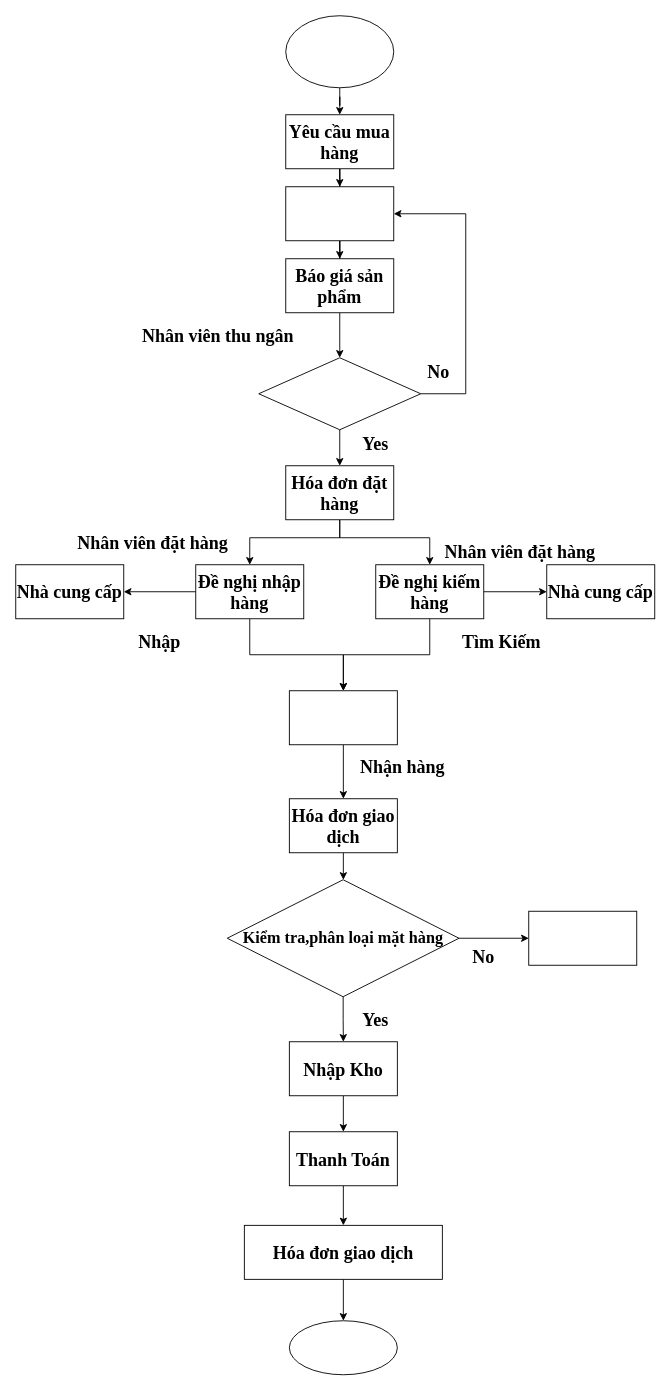
The diagram is 671 pixels wide and 1391 high, and some of its shapes have lost their labels. The centre of each missing label's shape, as x and y in pixels:
Bắt đầu: [339,51]
Kết thúc: [342,1347]
Phê duyệt: [339,393]
Phương thức chuyển đến: [342,717]
Trả lại Nhà cung cấp: [582,937]
Đề nghị báo giá: [339,213]
